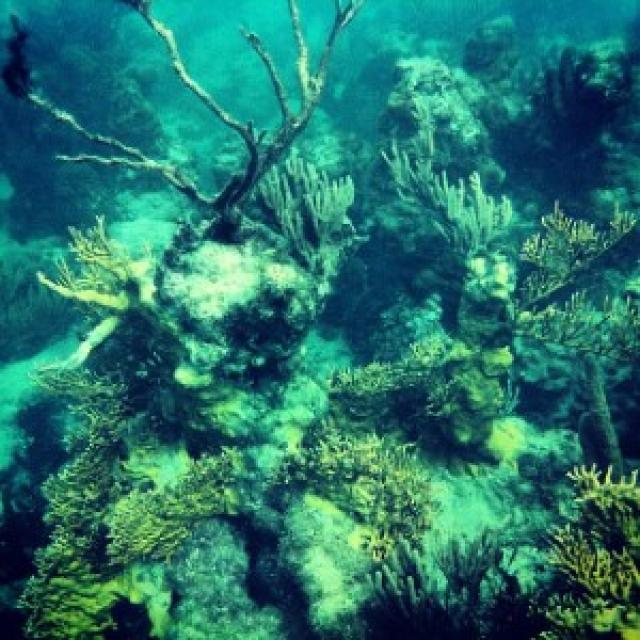Bleached: (165, 242, 298, 330)
Healthy: (20, 372, 127, 639), (332, 338, 511, 449), (368, 532, 545, 639), (280, 421, 434, 543), (539, 466, 639, 639), (110, 449, 251, 564), (383, 142, 511, 257), (519, 204, 637, 302), (37, 219, 157, 312), (259, 159, 349, 259), (519, 291, 639, 359)
